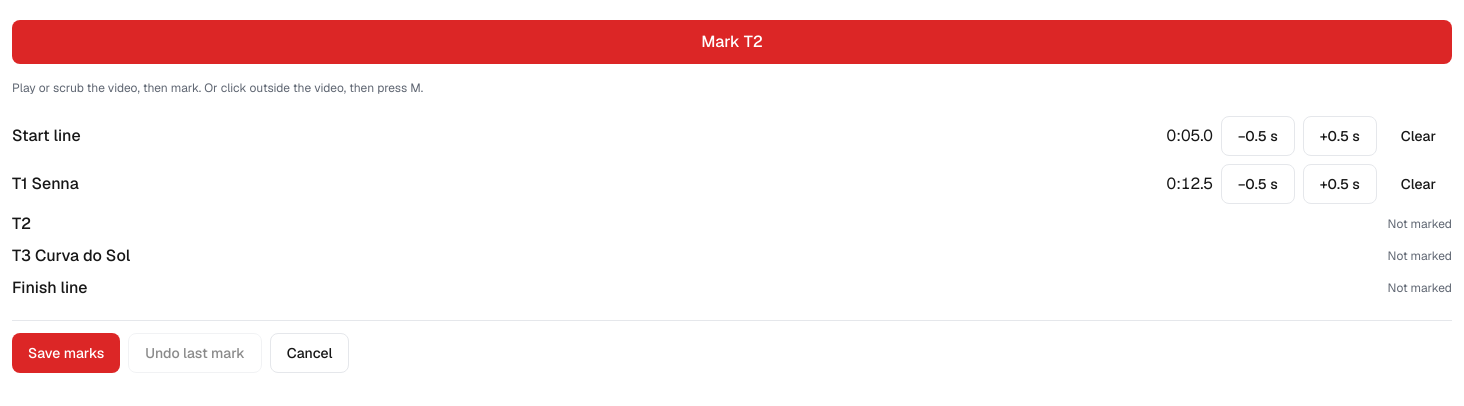
it: MarkCorners › nudges, clears and undoes marks
Click the button named "Later T1": (1340, 184) [1303,164,1377,204]
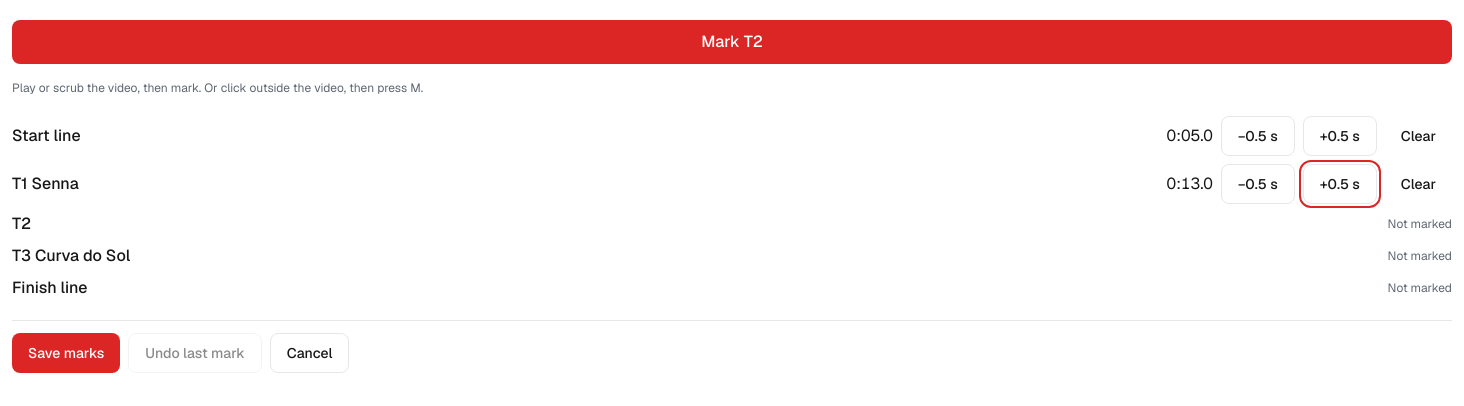
Expected: the text "0:13.0" is shown, [1167,172,1213,196]
Click the button named "Earlier T1": (1258, 184) [1221,164,1295,204]
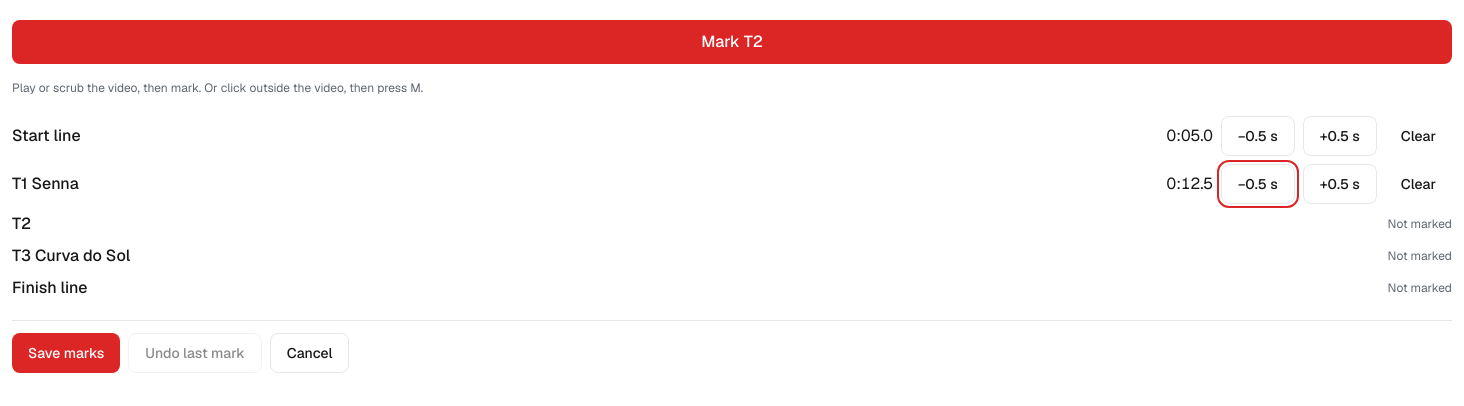
Click the button named "Earlier T1": (1258, 184) [1221,164,1295,204]
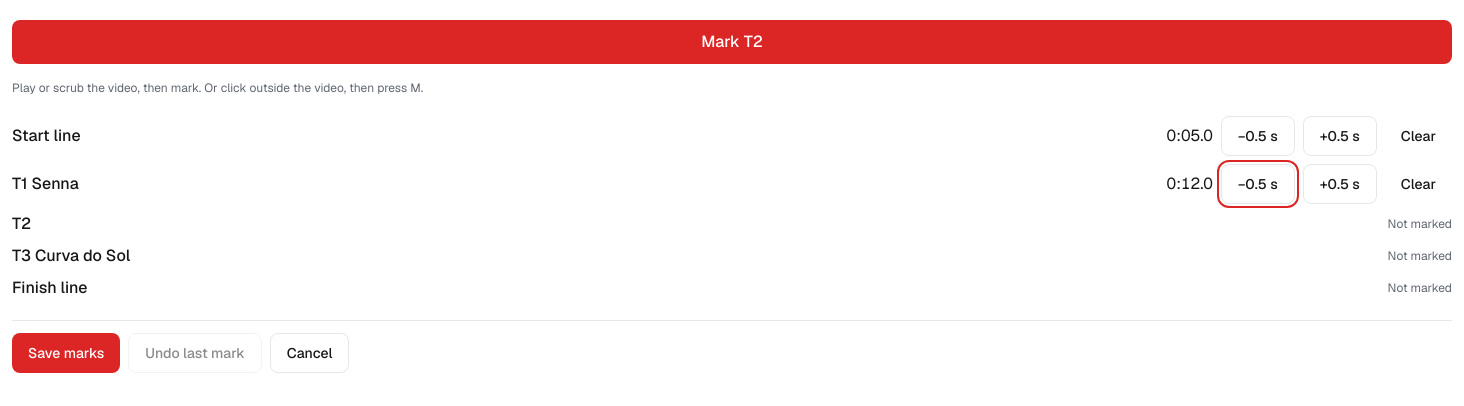
Expected: the text "0:12.0" is shown, [1167,172,1213,196]
Click the button "Mark T2": (732, 42) [12,20,1452,64]
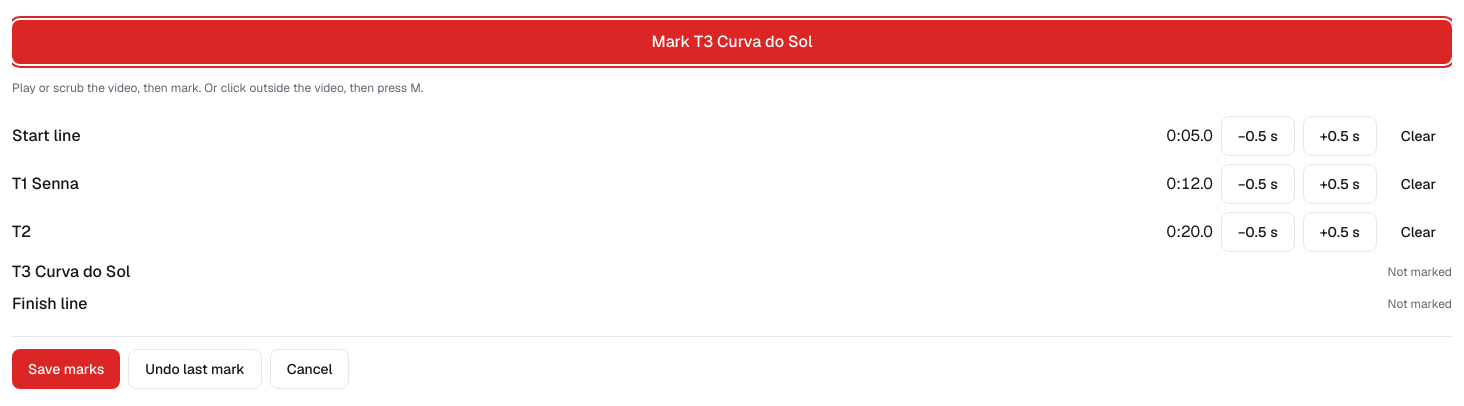
Expected: the text "0:20.0" is shown, [1167,220,1213,244]
Click the button "Undo last mark": (195, 369) [128,349,262,389]
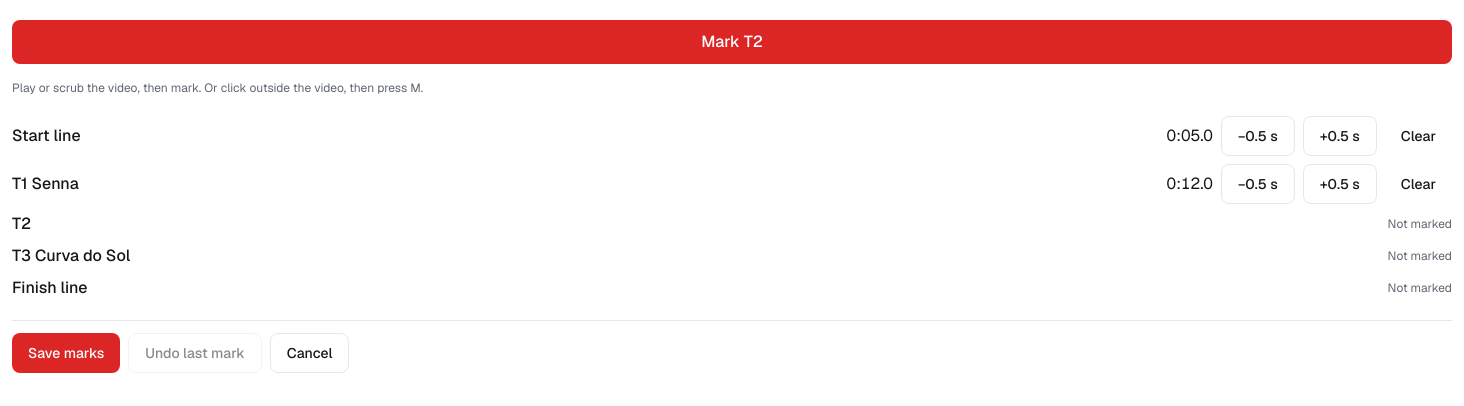
Expected: the text "0:20.0" is gone
Expected: the button "Undo last mark" is disabled, [128,333,262,373]
Click the button with aria-label "Clear T1": (1418, 184) [1385,164,1452,204]
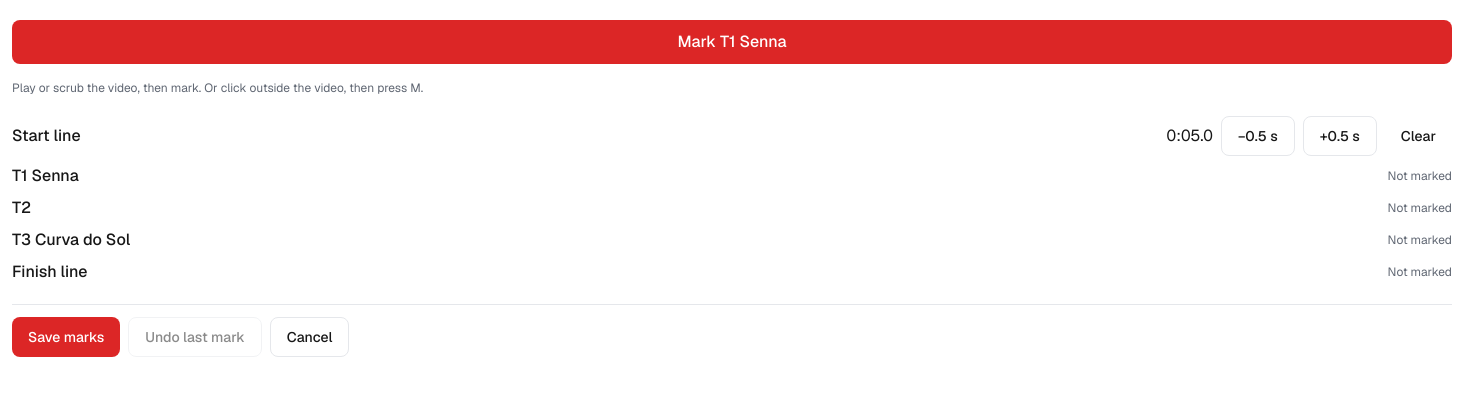
Expected: the button "Mark T1 Senna" is shown, [12,20,1452,64]
